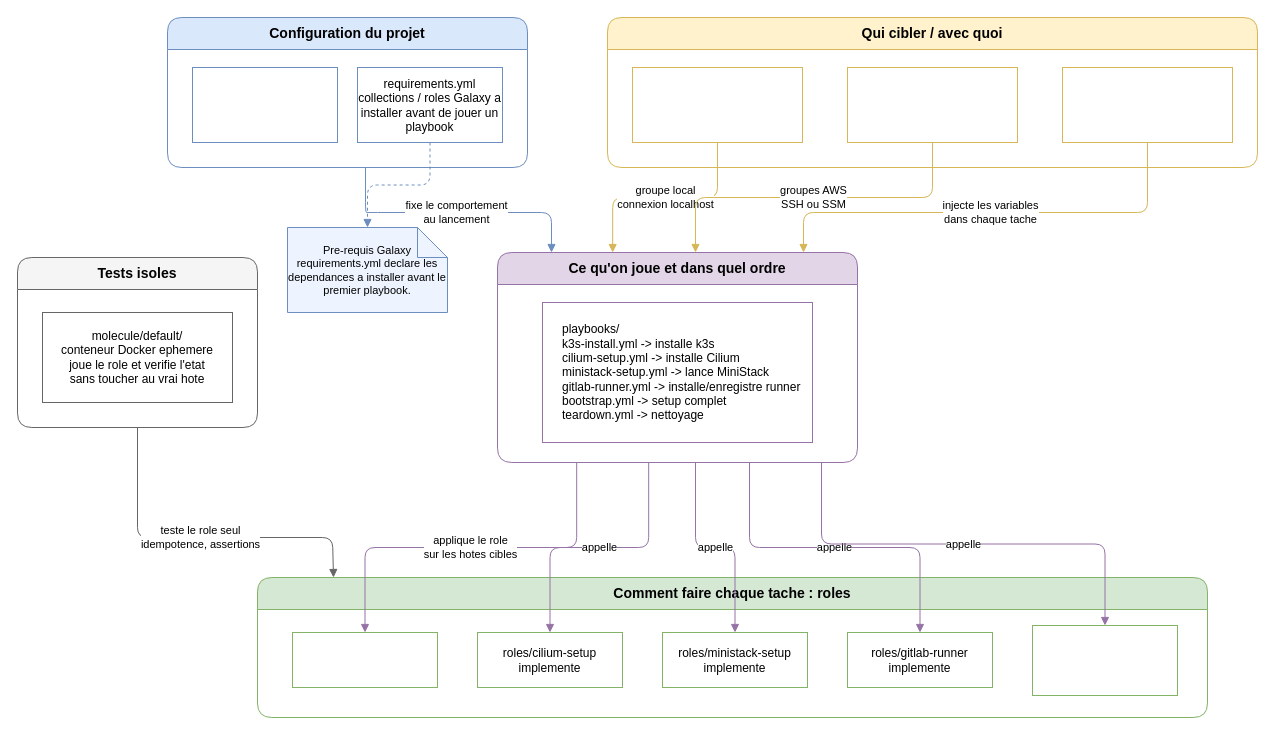
The diagram is 1275 pixels wide and 735 high, and some of its shapes have lost their labels. The centre of each missing label's shape, as x and y in pixels:
ansible.cfg chemins des roles, SSH, escalation de privileges, format de sortie: point (265, 104)
cloudflare-tunnel node-hardening futurs roles AWS...: point (1105, 660)
group_vars/all.yml variables partagees pas de secrets en clair: point (1147, 104)
inventory/aws_ec2.yml plugin dynamique decouverte EC2 via AWS API: point (932, 104)
inventory/local.yml fichier YAML statique groupe local: point (717, 104)
roles/k3s-install implemente: point (365, 660)
